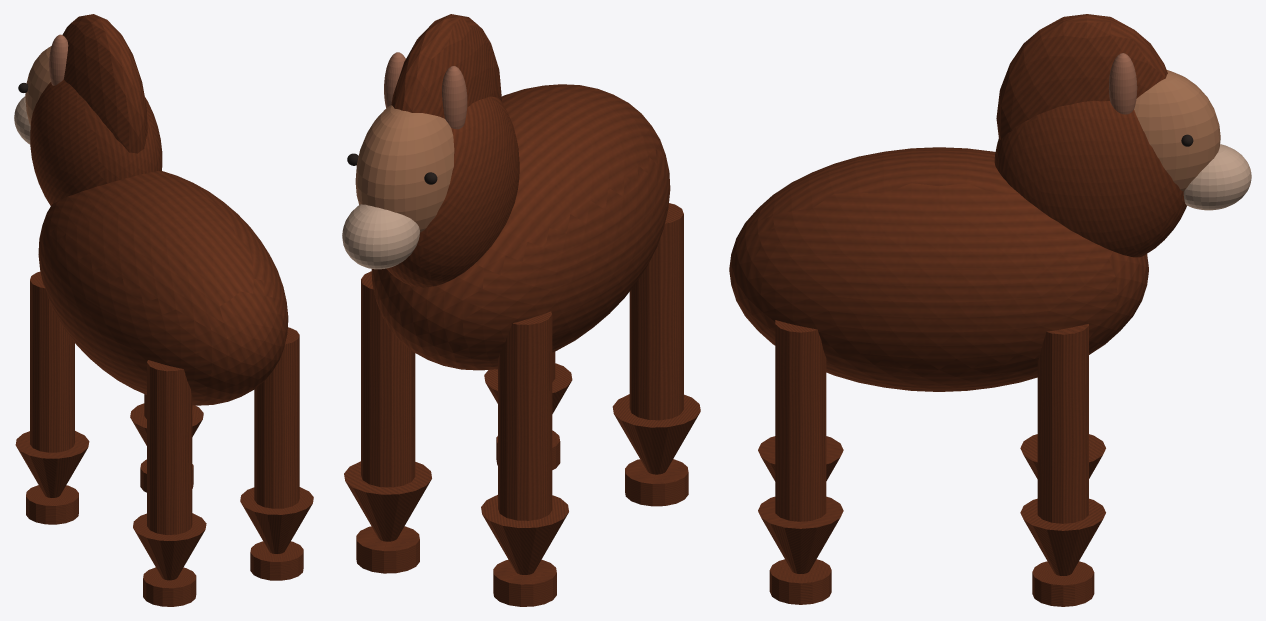
Rendered from horse_pbr_repair.glb.
3 views of the same model, side by side, from view 1: azimuth 30°, elevation 25°; view 2: azimuth 150°, elevation 25°; view 3: azimuth 270°, elevation 25° (orthographic). The views are drawn at different scales.
Parts seen in each view (by area): view 1: world, neck_crest, leg_HL, blond_mane, leg_HR, leg_FL, leg_HR_feathering, leg_FL_feathering, leg_HL_feathering, leg_HR_hoof, leg_HL_hoof, leg_FL_hoof (+4 smaller); view 2: world, neck_crest, leg_FL, leg_HL, leg_FR, horse_head_proxy, blond_mane, horse_muzzle_proxy, leg_FL_feathering, leg_FR_feathering, leg_HL_feathering, leg_FR_hoof (+5 smaller); view 3: world, neck_crest, blond_mane, leg_HR, leg_FR, horse_head_proxy, leg_HR_feathering, leg_FR_feathering, horse_muzzle_proxy, leg_FR_hoof, leg_HR_hoof, horse_ear_proxy_1 (+2 smaller).
Part boxes in pixels (x1=…): world: x1=38, y1=171, x2=288, y2=405; neck_crest: x1=30, y1=79, x2=162, y2=205; leg_HL: x1=147, y1=360, x2=192, y2=534; blond_mane: x1=62, y1=14, x2=147, y2=153; leg_HR: x1=254, y1=327, x2=299, y2=508; leg_FL: x1=30, y1=271, x2=74, y2=452; leg_HR_feathering: x1=240, y1=487, x2=313, y2=553; leg_FL_feathering: x1=15, y1=431, x2=89, y2=497; leg_HL_feathering: x1=133, y1=513, x2=206, y2=580; leg_HR_hoof: x1=250, y1=541, x2=303, y2=580; leg_HL_hoof: x1=143, y1=567, x2=196, y2=606; leg_FL_hoof: x1=26, y1=485, x2=78, y2=524; world: x1=371, y1=84, x2=670, y2=370; neck_crest: x1=386, y1=96, x2=519, y2=287; leg_FL: x1=498, y1=311, x2=552, y2=520; leg_HL: x1=629, y1=203, x2=683, y2=420; leg_FR: x1=361, y1=271, x2=415, y2=487; horse_head_proxy: x1=355, y1=105, x2=454, y2=232; blond_mane: x1=391, y1=14, x2=501, y2=118; horse_muzzle_proxy: x1=342, y1=204, x2=419, y2=269; leg_FL_feathering: x1=481, y1=495, x2=568, y2=574; leg_FR_feathering: x1=344, y1=461, x2=431, y2=541; leg_HL_feathering: x1=612, y1=394, x2=700, y2=474; leg_FR_hoof: x1=356, y1=526, x2=419, y2=573; world: x1=729, y1=147, x2=1148, y2=391; neck_crest: x1=994, y1=100, x2=1186, y2=257; blond_mane: x1=996, y1=14, x2=1167, y2=139; leg_HR: x1=775, y1=320, x2=826, y2=521; leg_FR: x1=1037, y1=324, x2=1088, y2=523; horse_head_proxy: x1=1134, y1=70, x2=1220, y2=191; leg_HR_feathering: x1=758, y1=496, x2=843, y2=573; leg_FR_feathering: x1=1020, y1=498, x2=1105, y2=575; horse_muzzle_proxy: x1=1183, y1=144, x2=1251, y2=210; leg_FR_hoof: x1=1032, y1=561, x2=1094, y2=606; leg_HR_hoof: x1=769, y1=559, x2=831, y2=604; horse_ear_proxy_1: x1=1108, y1=53, x2=1137, y2=114.
Size of the model in its own units: 1 by 2.53 by 2.19.
7 materials, 1 textured.
